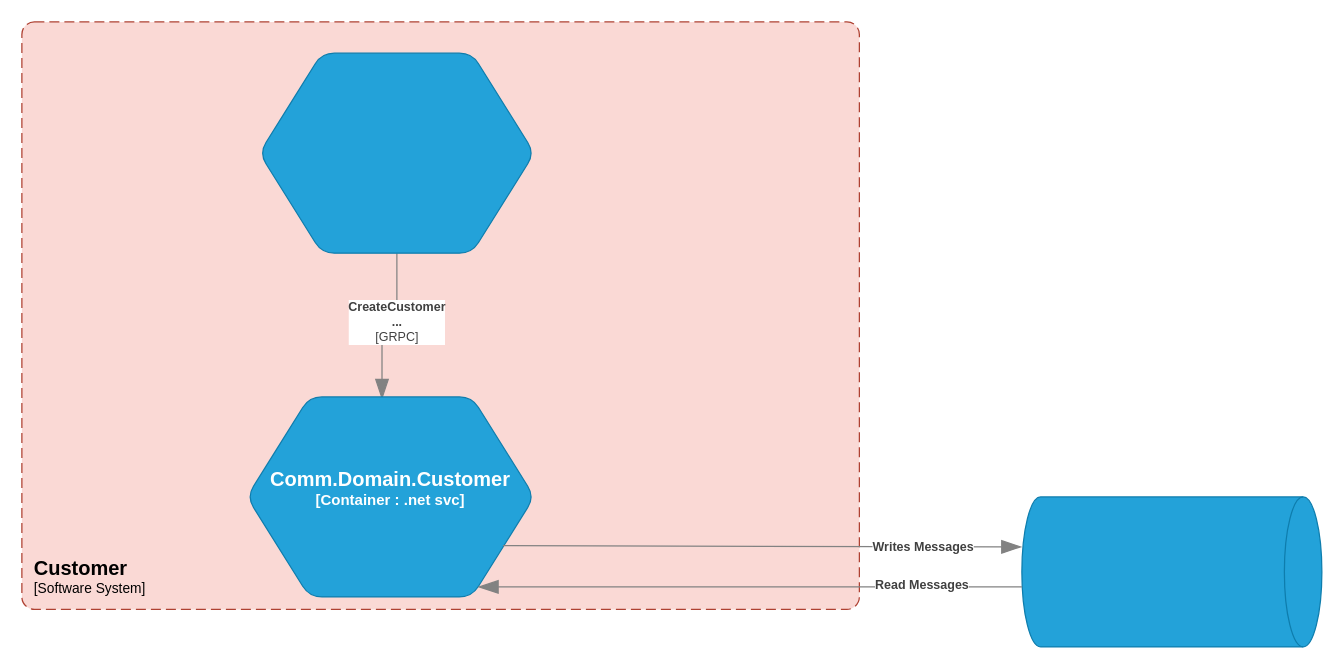
Some shapes in this 1344 by 669 pixel diagram are drawn without their labels. The centre of each missing label's shape, as x and y in pixels:
"Comm.App.Customer [Container : .net svc]" goes at [396,152].
"Kafka [Container : Apache Kafka] Kafka" goes at [1171,571].
